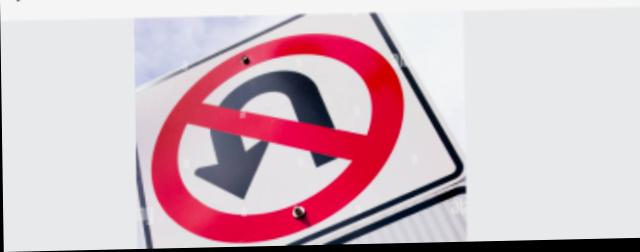not_u_turn_left: (140, 28, 419, 245)
